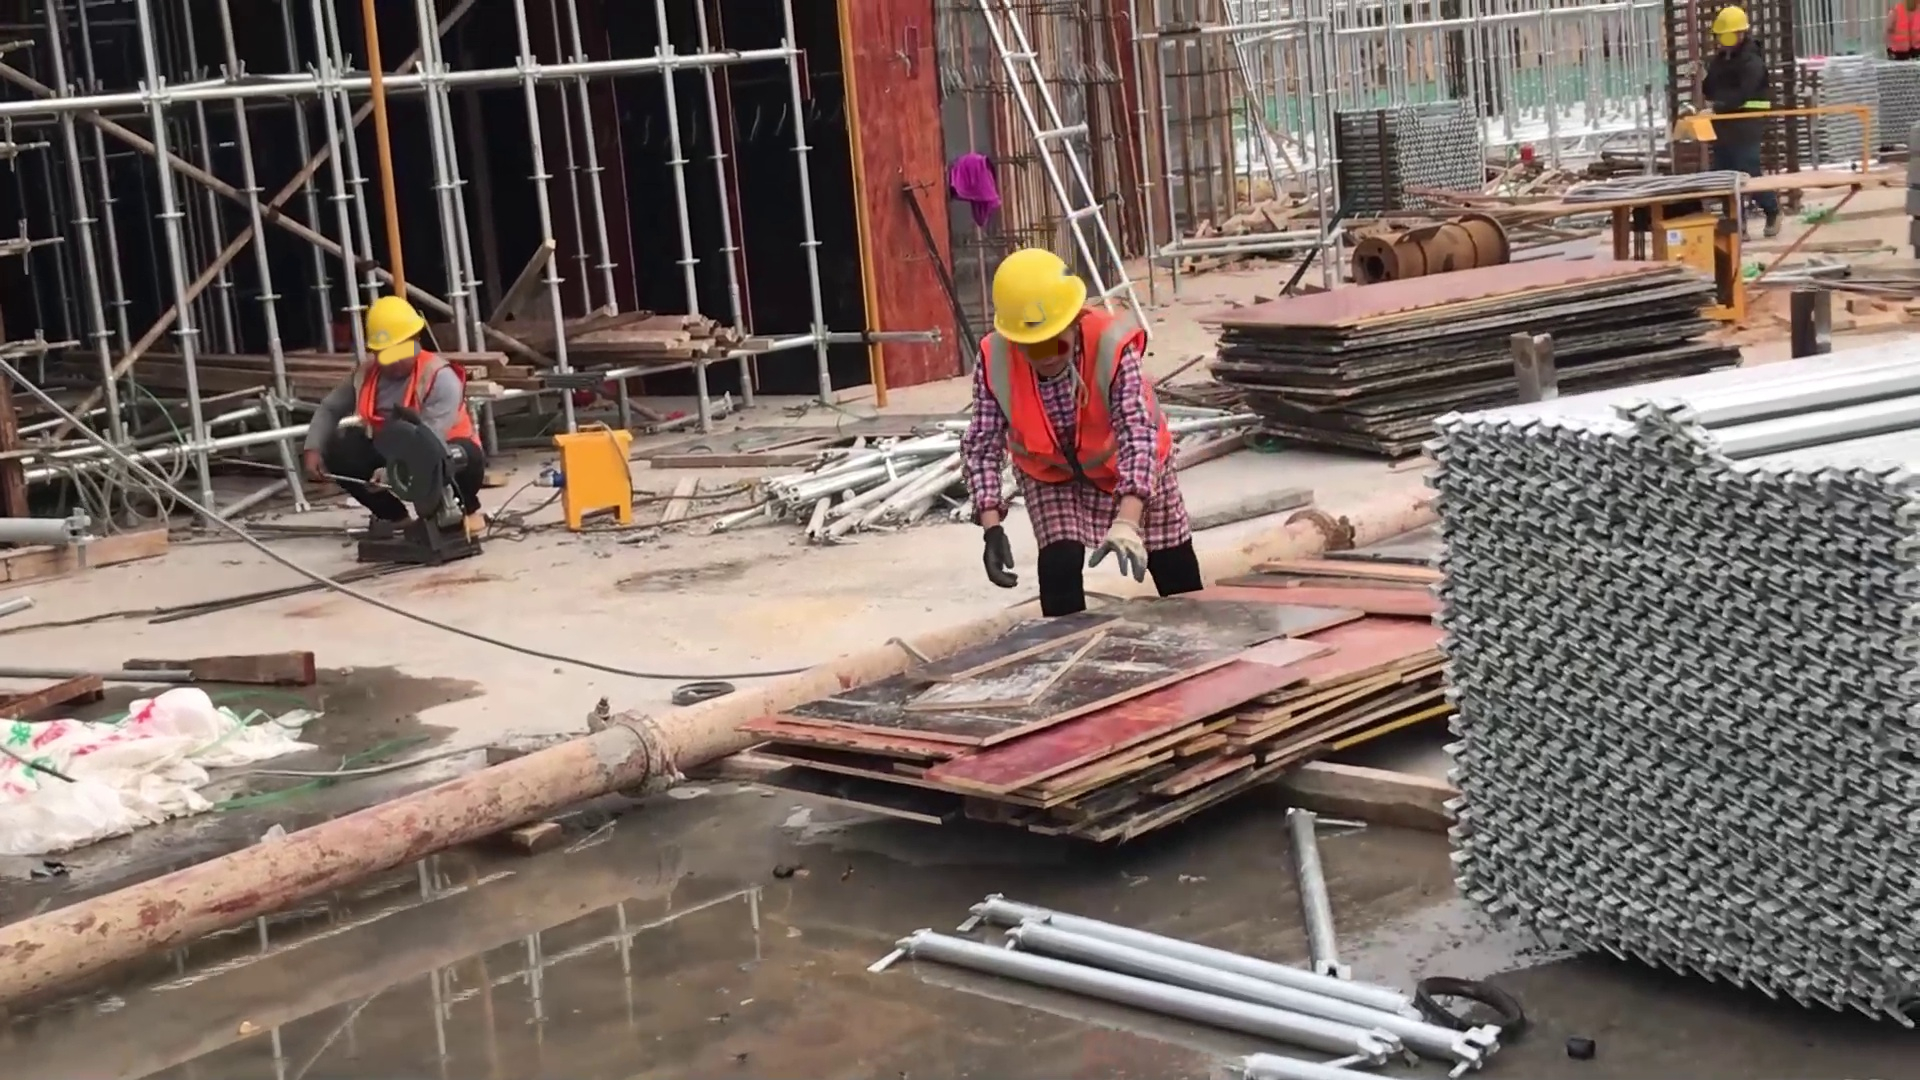board: (730, 542, 1473, 848), (1198, 252, 1745, 463)
ebox: (1646, 207, 1748, 318)
helmet: (982, 236, 1094, 352), (350, 283, 430, 367), (1706, 6, 1765, 44)
person: (959, 247, 1209, 623), (305, 289, 487, 533), (1695, 8, 1788, 241)
scaffold: (1418, 339, 1919, 1034)
vest: (965, 308, 1169, 488), (355, 352, 484, 450)
